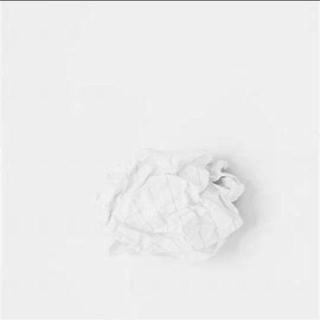Anorganik: (94, 143, 254, 273)
